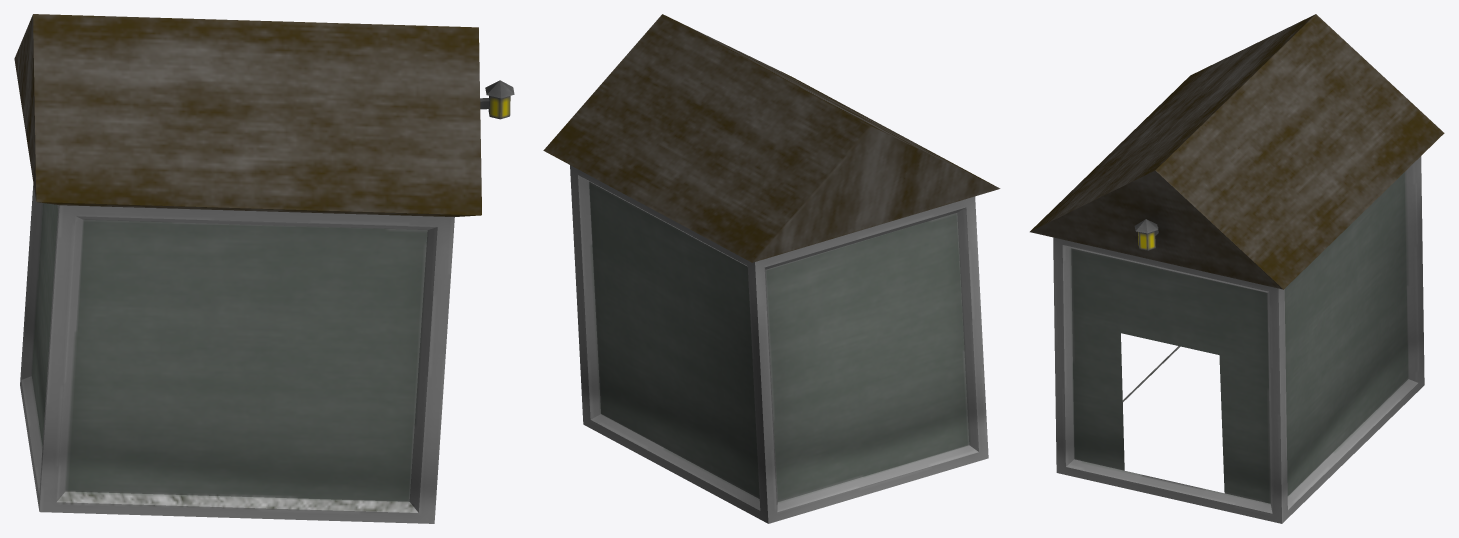
Rendered from model.gltf.glb.
3 renders of one model, left to right at view 1: azimuth 30°, elevation 25°; view 2: azimuth 150°, elevation 25°; view 3: azimuth 270°, elevation 25°, orthographic. The views are drawn at different scales.
Parts seen in each view (by area): view 1: Cementary.028; view 2: Cementary.028; view 3: Cementary.028.
Part boxes in pixels (<box>): Cementary.028: <box>14,14,514,523</box>; Cementary.028: <box>543,14,1000,523</box>; Cementary.028: <box>1030,14,1444,523</box>.
Size of the model in its own units: 5.32 by 4.81 by 4.92.
1 material, 1 textured.
